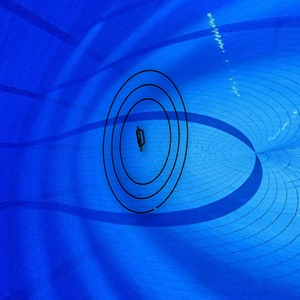circle: (99, 69, 199, 216)
submarine: (132, 119, 149, 158)
